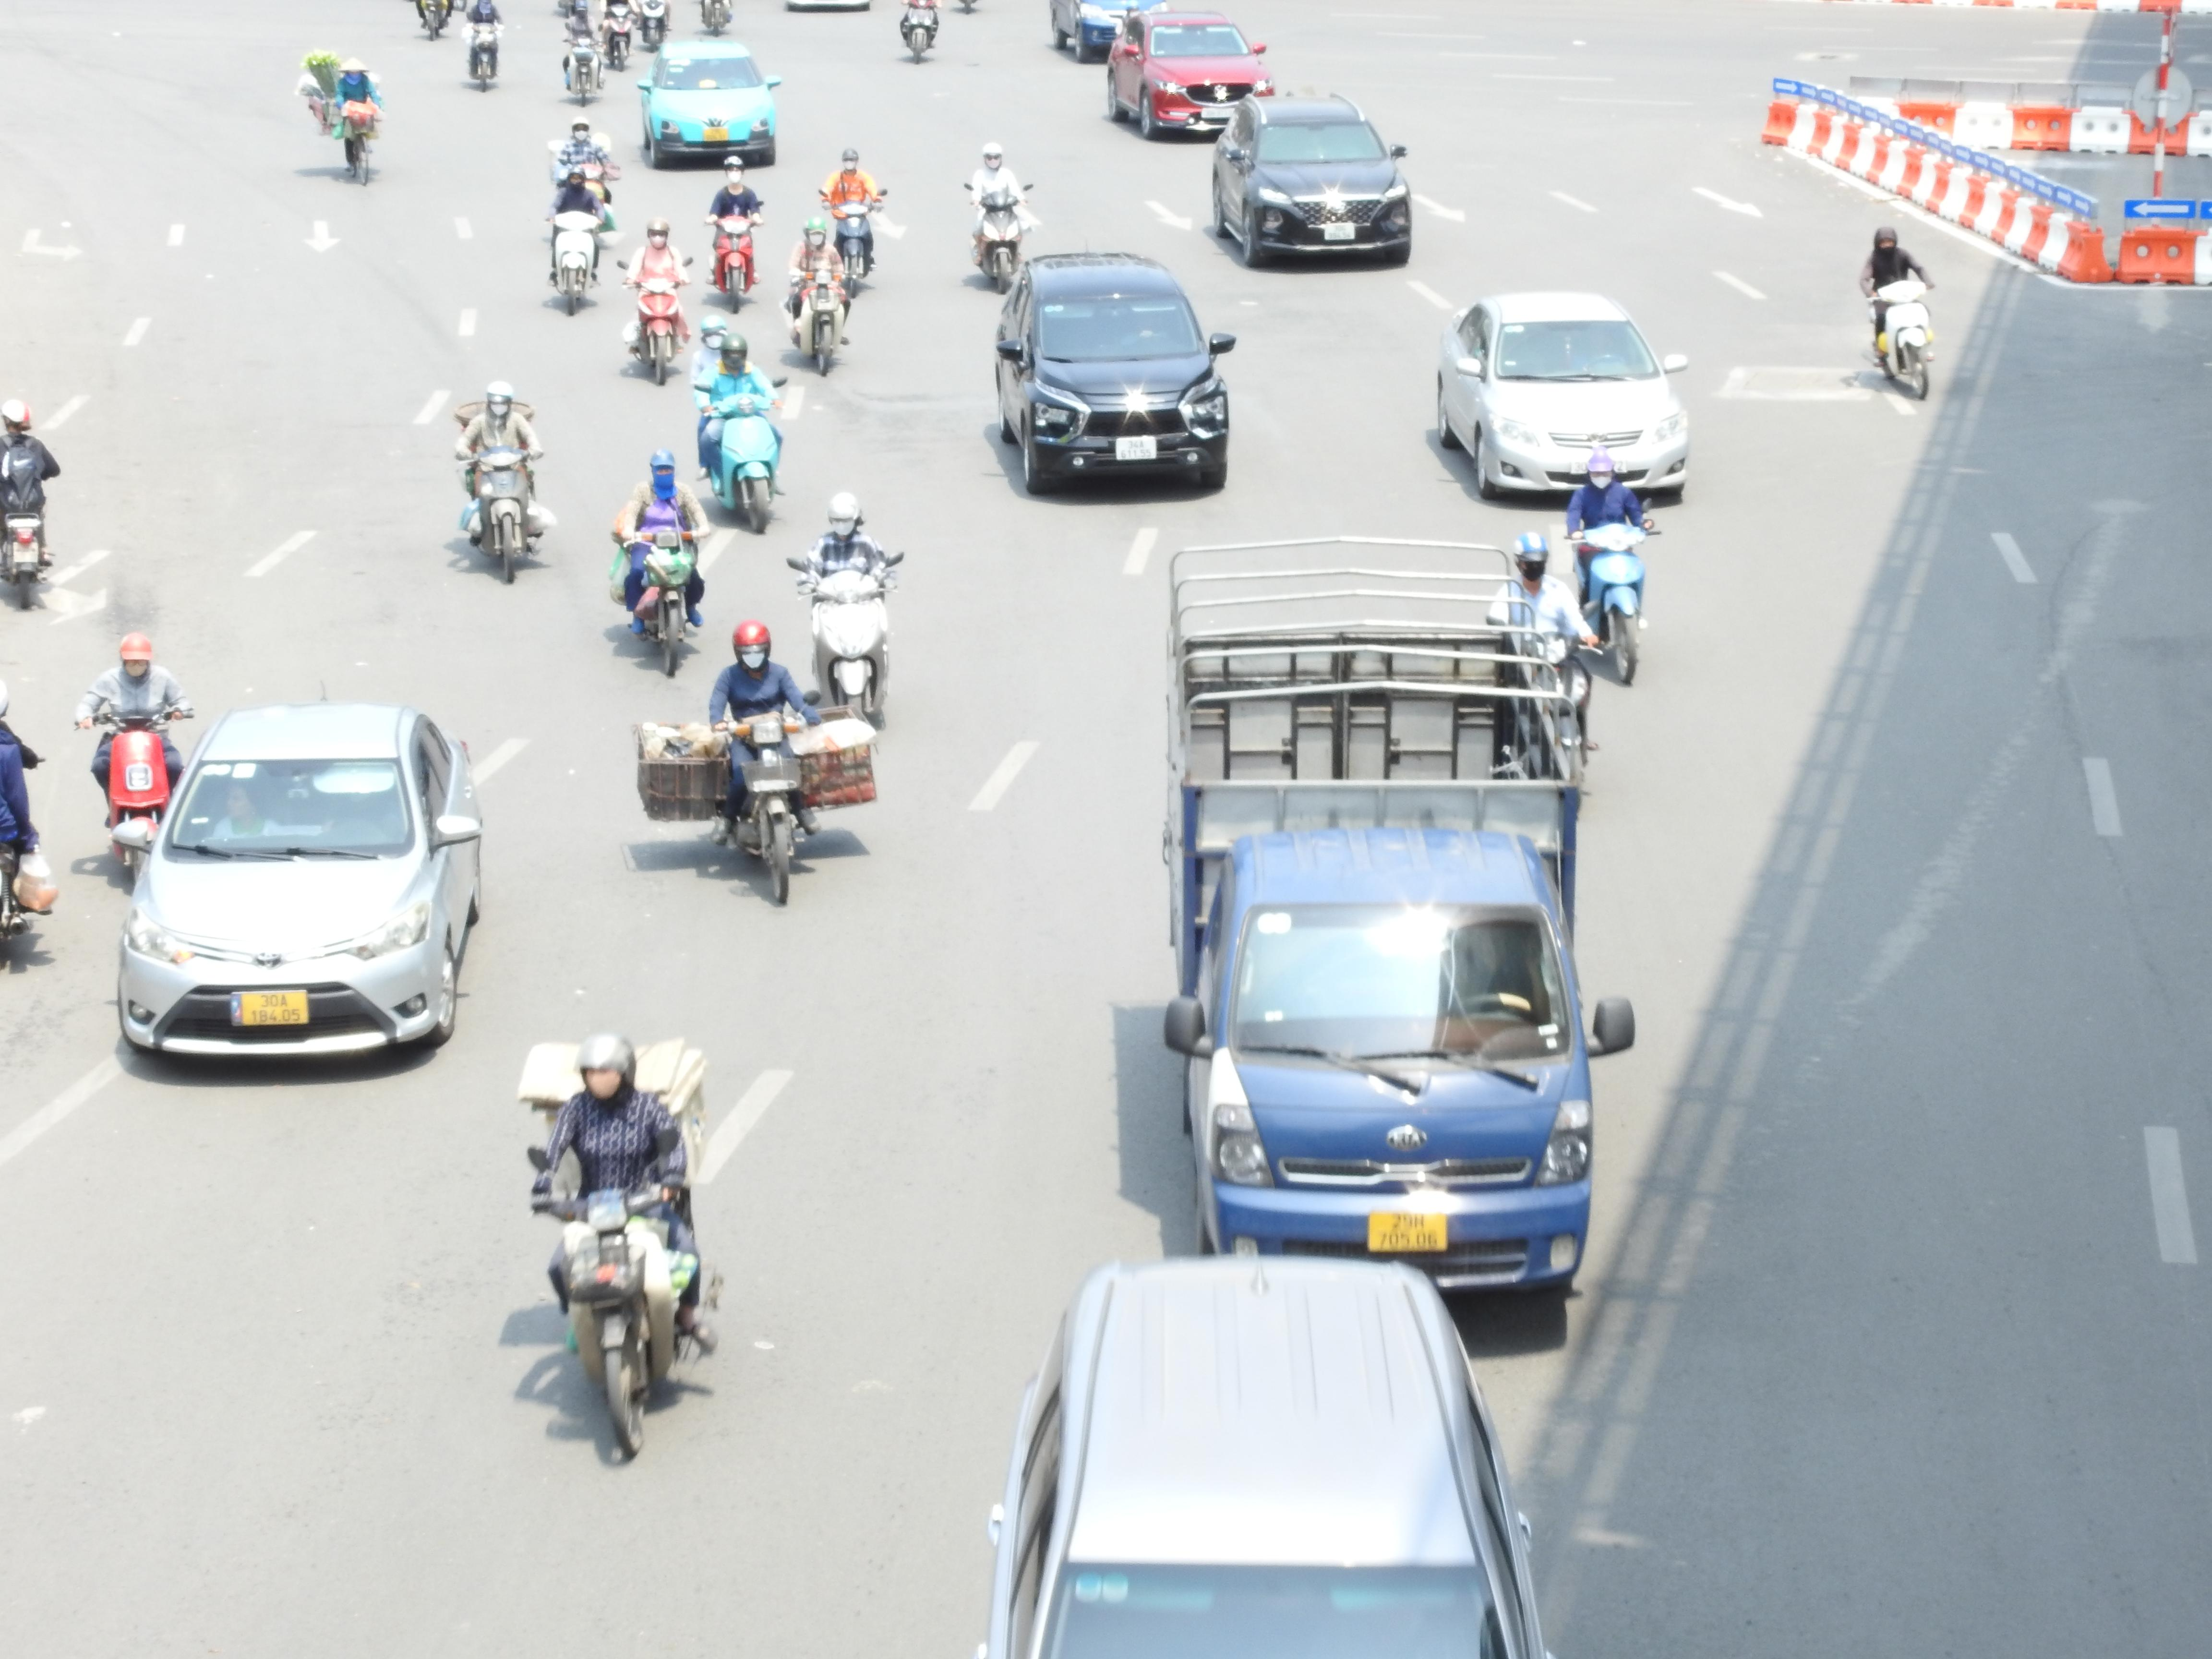BSV: (1367, 1213, 1447, 1251), (233, 990, 308, 1026), (1115, 436, 1157, 462), (1324, 223, 1355, 240)
car: (942, 1249, 1597, 1659), (110, 699, 486, 1070), (989, 253, 1238, 498), (1430, 291, 1693, 504), (1209, 94, 1414, 270), (1104, 9, 1277, 141), (636, 37, 780, 169)
motorbike: (526, 1030, 719, 1466), (707, 619, 822, 908), (80, 631, 192, 882), (1484, 532, 1601, 767), (792, 488, 902, 734), (1564, 448, 1658, 687), (611, 450, 709, 678), (455, 378, 547, 584), (695, 335, 787, 535), (0, 676, 52, 978), (1862, 227, 1935, 399), (0, 401, 57, 610), (620, 220, 690, 387), (784, 218, 855, 376), (963, 143, 1035, 293), (819, 146, 887, 291), (545, 166, 608, 315), (705, 160, 765, 312), (549, 117, 618, 220), (331, 54, 381, 185), (557, 0, 608, 105), (463, 0, 503, 91), (897, 0, 942, 64), (599, 0, 636, 71), (634, 0, 672, 51), (411, 0, 456, 40), (697, 0, 737, 37)
truck: (1155, 540, 1635, 1297)
